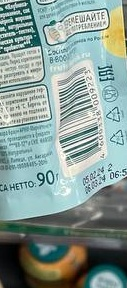1d: (56, 66, 100, 168)
